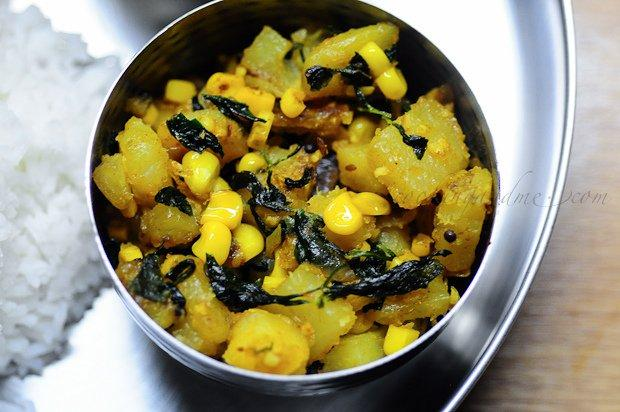Aloo Methi: (95, 13, 515, 395)
